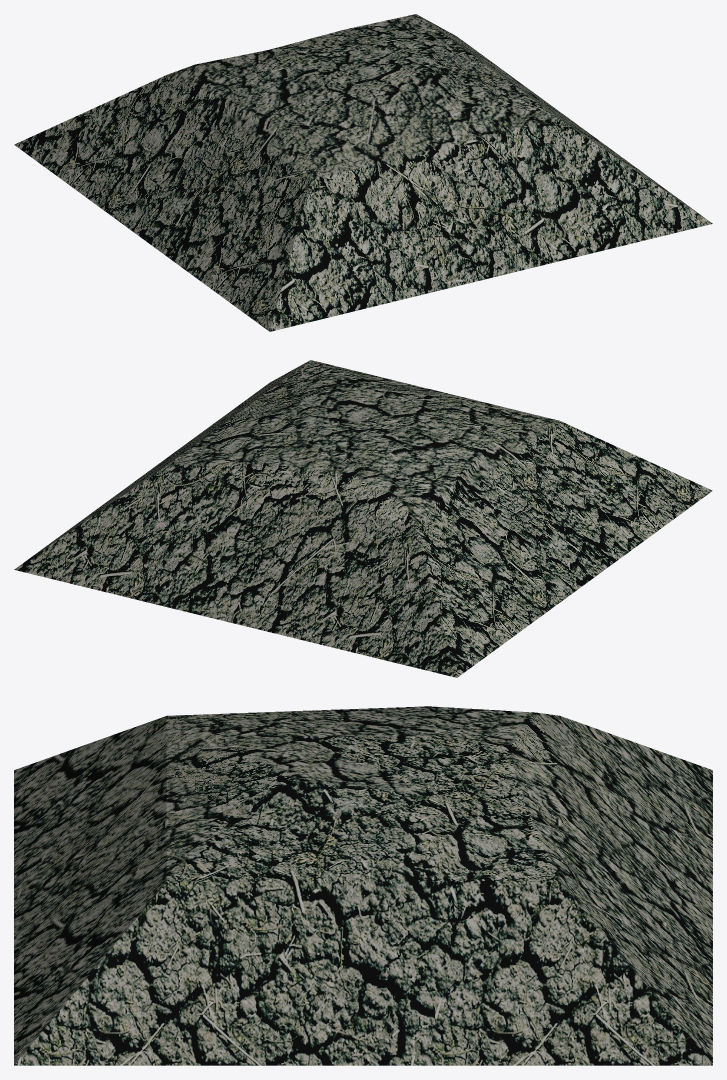
The model's file is tower_tar.FBX.
3 renders of one model, top to bottom at view 1: azimuth 30°, elevation 25°; view 2: azimuth 150°, elevation 25°; view 3: azimuth 270°, elevation 25°, orthographic. The views are drawn at different scales.
Visible parts, largest first — view 1: tower_tar; view 2: tower_tar; view 3: tower_tar.
Boxes of the visible parts, <box> form: tower_tar: <box>14,14,712,331</box>; tower_tar: <box>14,360,712,677</box>; tower_tar: <box>14,706,712,1065</box>.
Size of the model in its own units: 35.54 by 9.2 by 35.54.
1 material, 1 textured.
